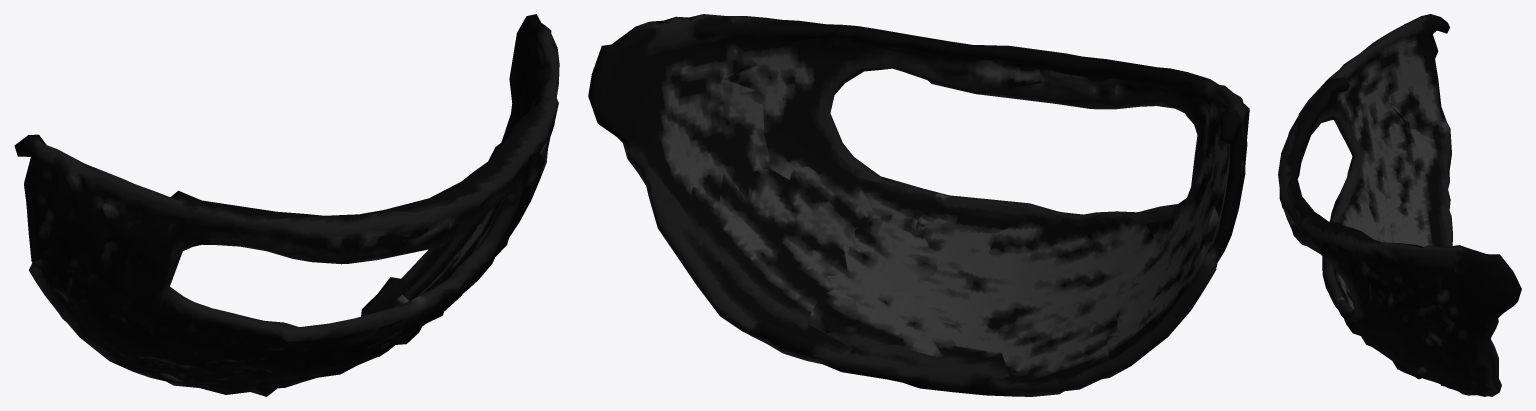
Rendered from full beard.glb.
The picture shows the model from 3 angles, left to right: view 1: azimuth 30°, elevation 25°; view 2: azimuth 150°, elevation 25°; view 3: azimuth 270°, elevation 25°; orthographic projection. The views are drawn at different scales.
Parts seen in each view (by area): view 1: beard.001; view 2: beard.001; view 3: beard.001.
Part boxes in pixels (x1,y1,x2,y2): beard.001: (14, 14, 559, 396); beard.001: (588, 14, 1249, 396); beard.001: (1278, 14, 1521, 396).
Bounding box in the file's own units: 0.3217 × 0.1752 × 0.1545.
Materials: 1 (1 with a texture image).
